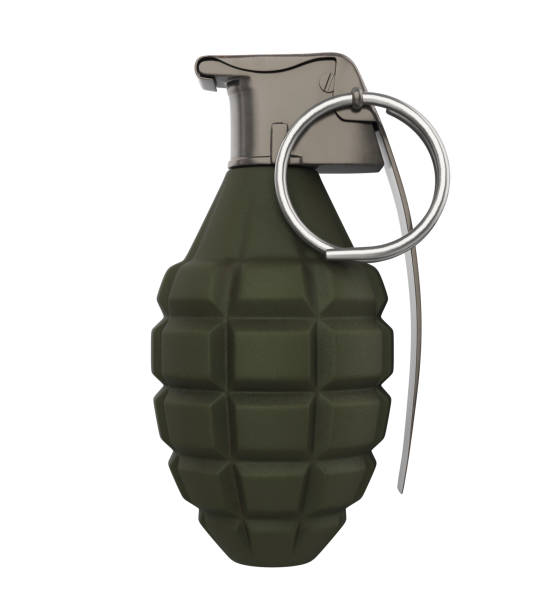e1: (157, 54, 449, 564)
